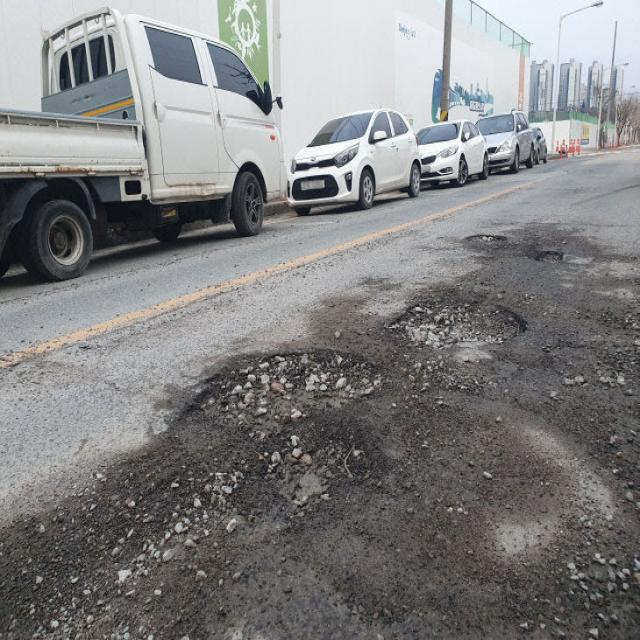pothole: (185, 320, 374, 404), (244, 408, 374, 518), (393, 266, 532, 361), (529, 244, 586, 267)
